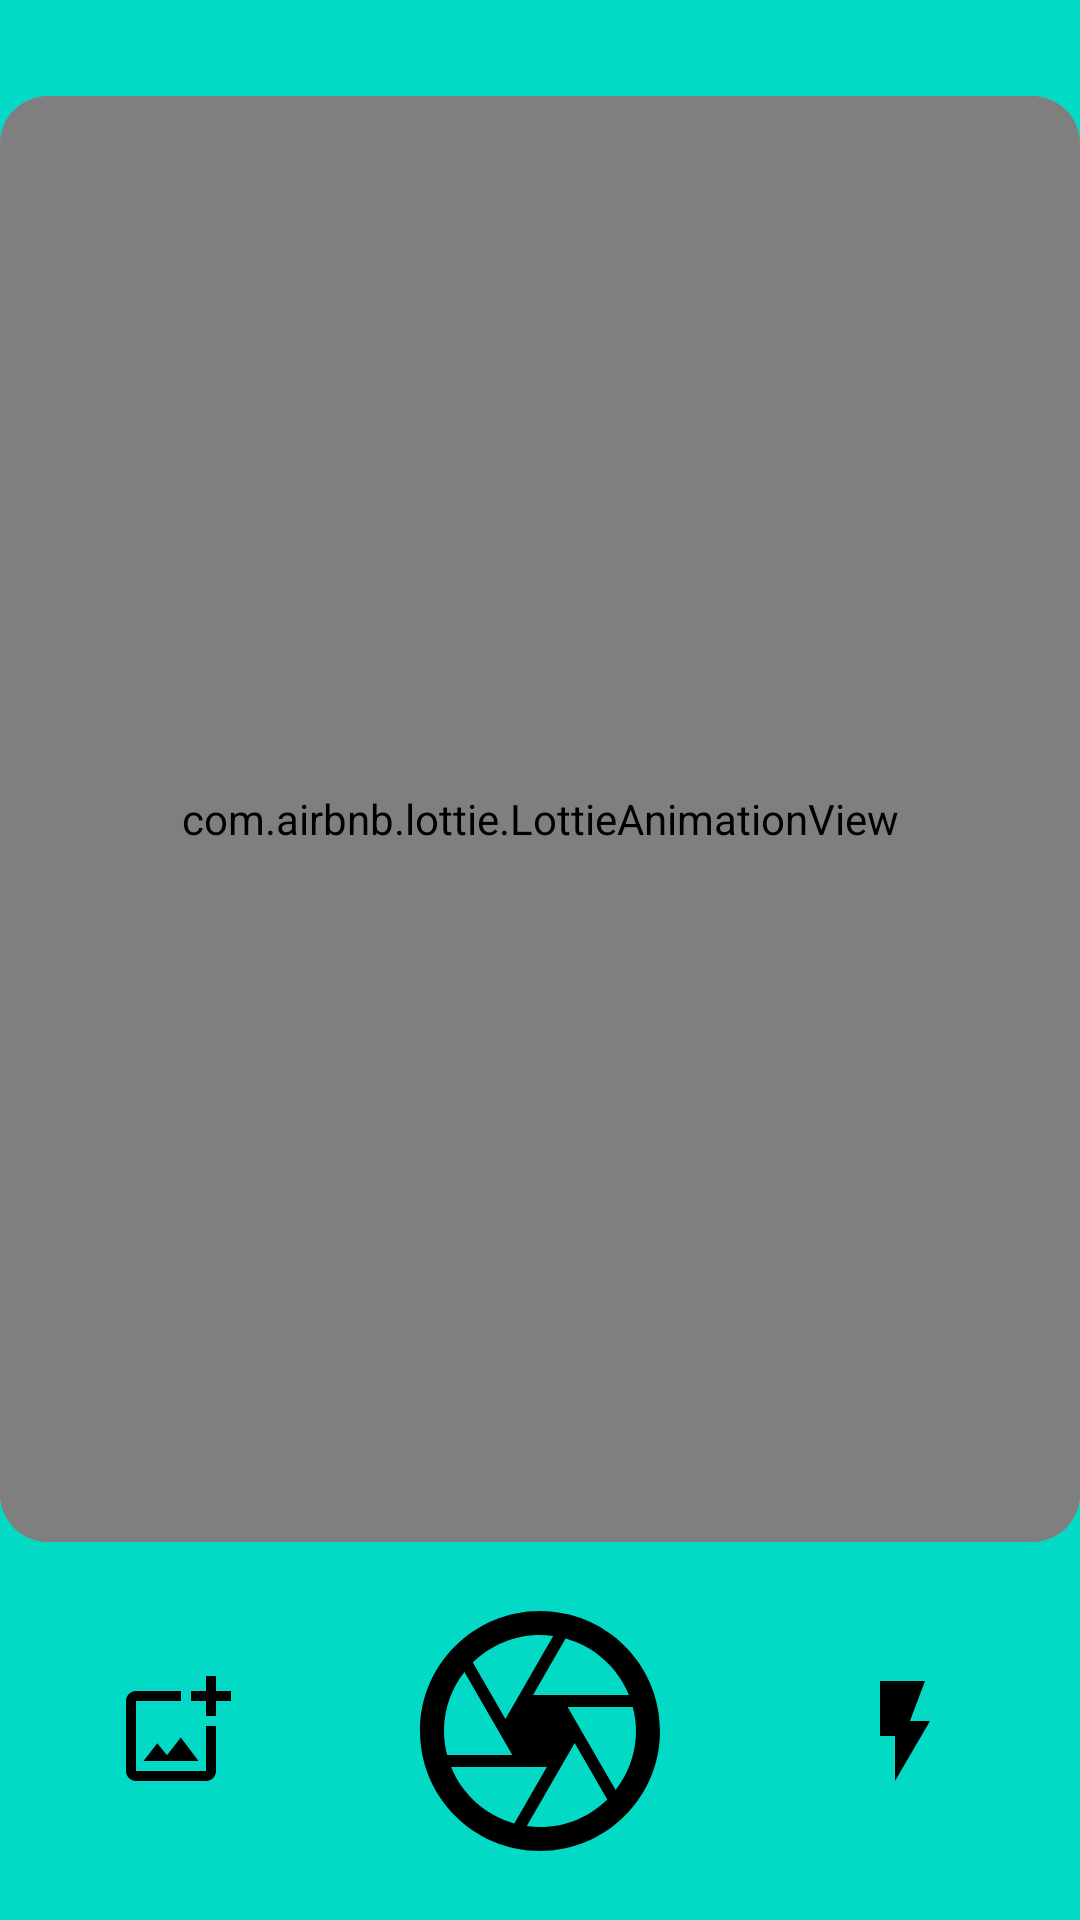

Where icons sit on this 1080×1920 app screen, as (x1, y1, x2, y2):
Add Photo from Gallery: (126, 1676, 231, 1781)
Capture a plant photo: (420, 1611, 660, 1851)
Flash: (880, 1681, 930, 1781)
